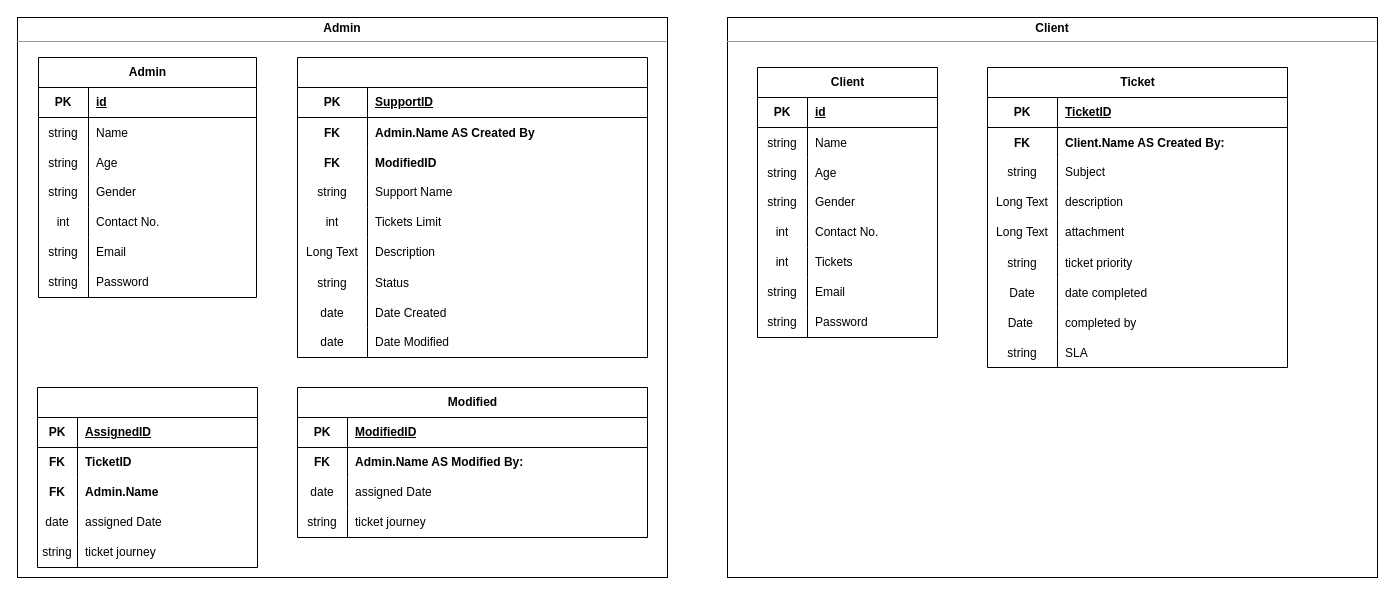
Some shapes in this 1395 by 595 pixel diagram are drawn without their labels. Each missing label, with the box of its shape:
assigned ticket: (36, 386, 258, 568)
support type: (296, 56, 648, 358)
